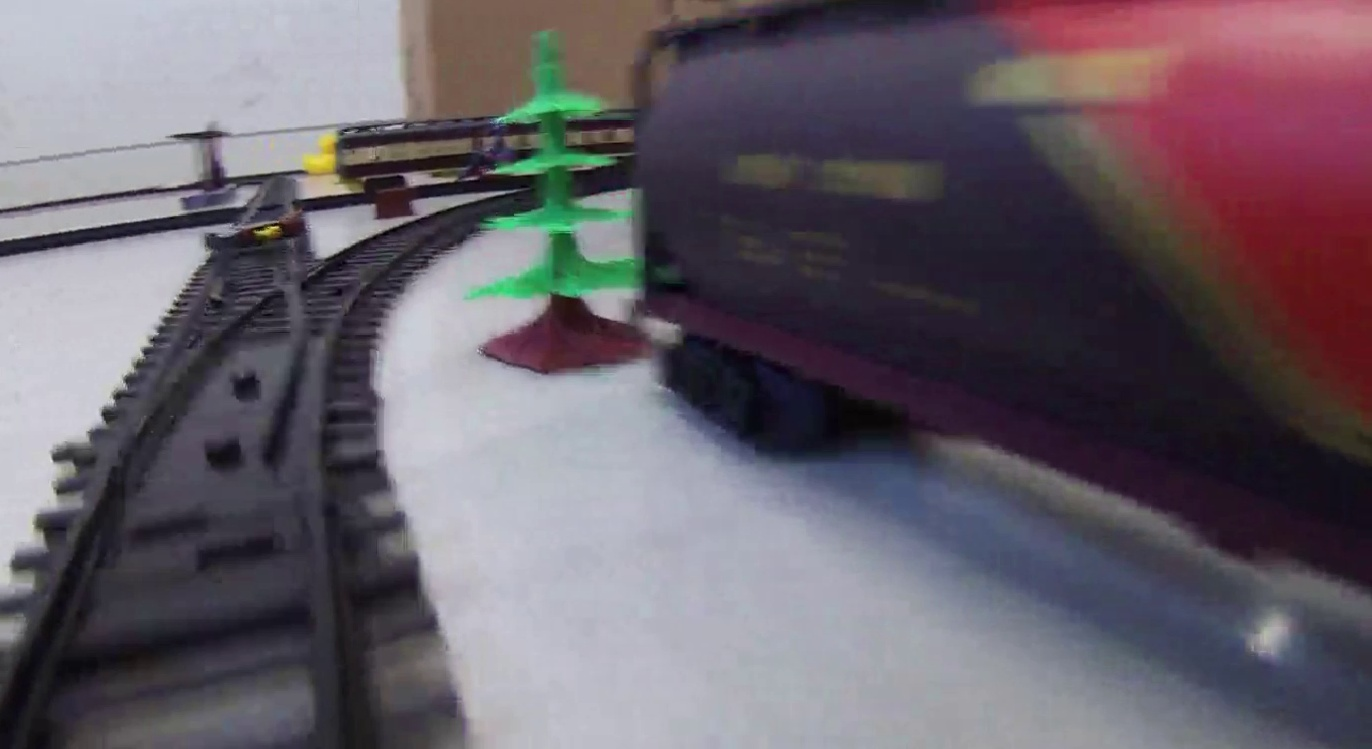tree: (465, 32, 641, 375)
